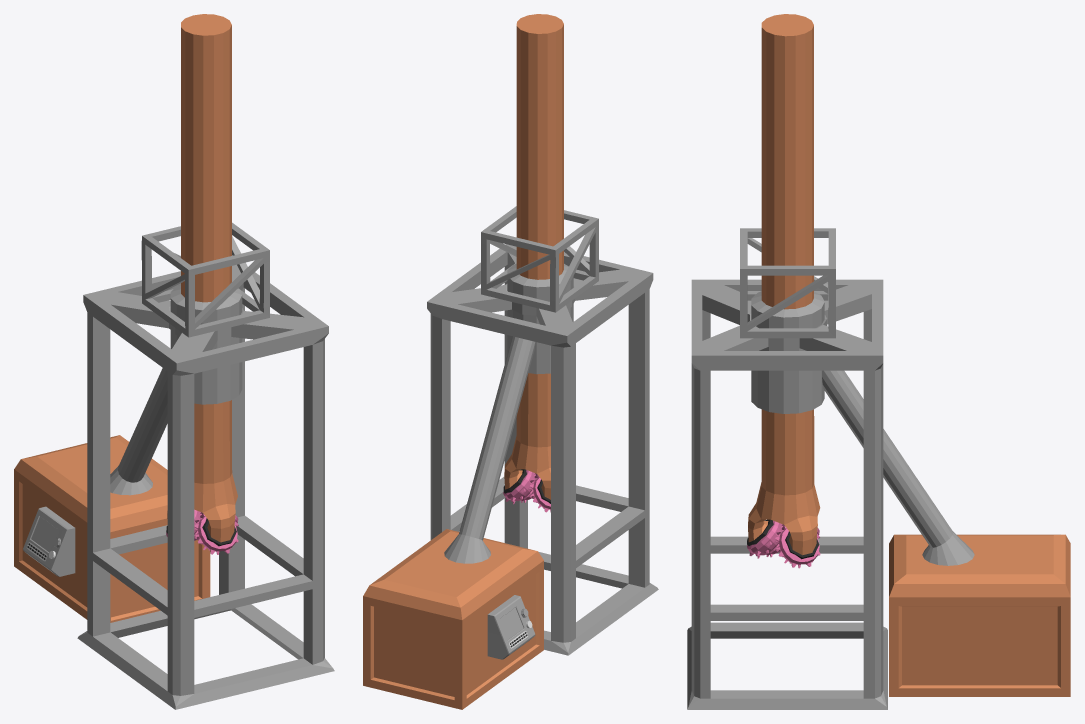
The model's file is foreusetestanim.gltf.
3 views of the same model, side by side, from view 1: azimuth 30°, elevation 25°; view 2: azimuth 150°, elevation 25°; view 3: azimuth 270°, elevation 25° (orthographic). The views are drawn at different scales.
Parts seen in each view (by area): view 1: Cube.009, Plane.002, Cube, Cube.010, Plane.001, Cube.001, Cube.005; view 2: Cube.009, Cube, Plane.002, Plane.001, Cube.010, Cube.001, Cube.004; view 3: Cube.009, Cube, Plane.002, Plane.001, Cube.010, Cube.005.
Boxes of the visible parts, left/top/right/bottom form: Cube.009: left=77, top=264, right=334, bottom=709; Plane.002: left=166, top=14, right=237, bottom=546; Cube: left=14, top=435, right=210, bottom=622; Cube.010: left=141, top=222, right=269, bottom=337; Plane.001: left=110, top=284, right=242, bottom=495; Cube.001: left=23, top=506, right=75, bottom=576; Cube.005: left=194, top=514, right=238, bottom=554; Cube.009: left=427, top=244, right=658, bottom=655; Cube: left=363, top=529, right=543, bottom=709; Plane.002: left=503, top=14, right=563, bottom=503; Plane.001: left=444, top=263, right=573, bottom=563; Cube.010: left=481, top=206, right=598, bottom=312; Cube.001: left=487, top=595, right=535, bottom=659; Cube.004: left=503, top=470, right=537, bottom=504; Cube.009: left=687, top=279, right=887, bottom=709; Cube: left=889, top=534, right=1070, bottom=696; Plane.002: left=747, top=14, right=820, bottom=559; Plane.001: left=751, top=291, right=974, bottom=565; Cube.010: left=740, top=228, right=835, bottom=338; Cube.005: left=747, top=520, right=783, bottom=558.
Bounding box in the file's own units: 2.08 × 7.83 × 4.22.
